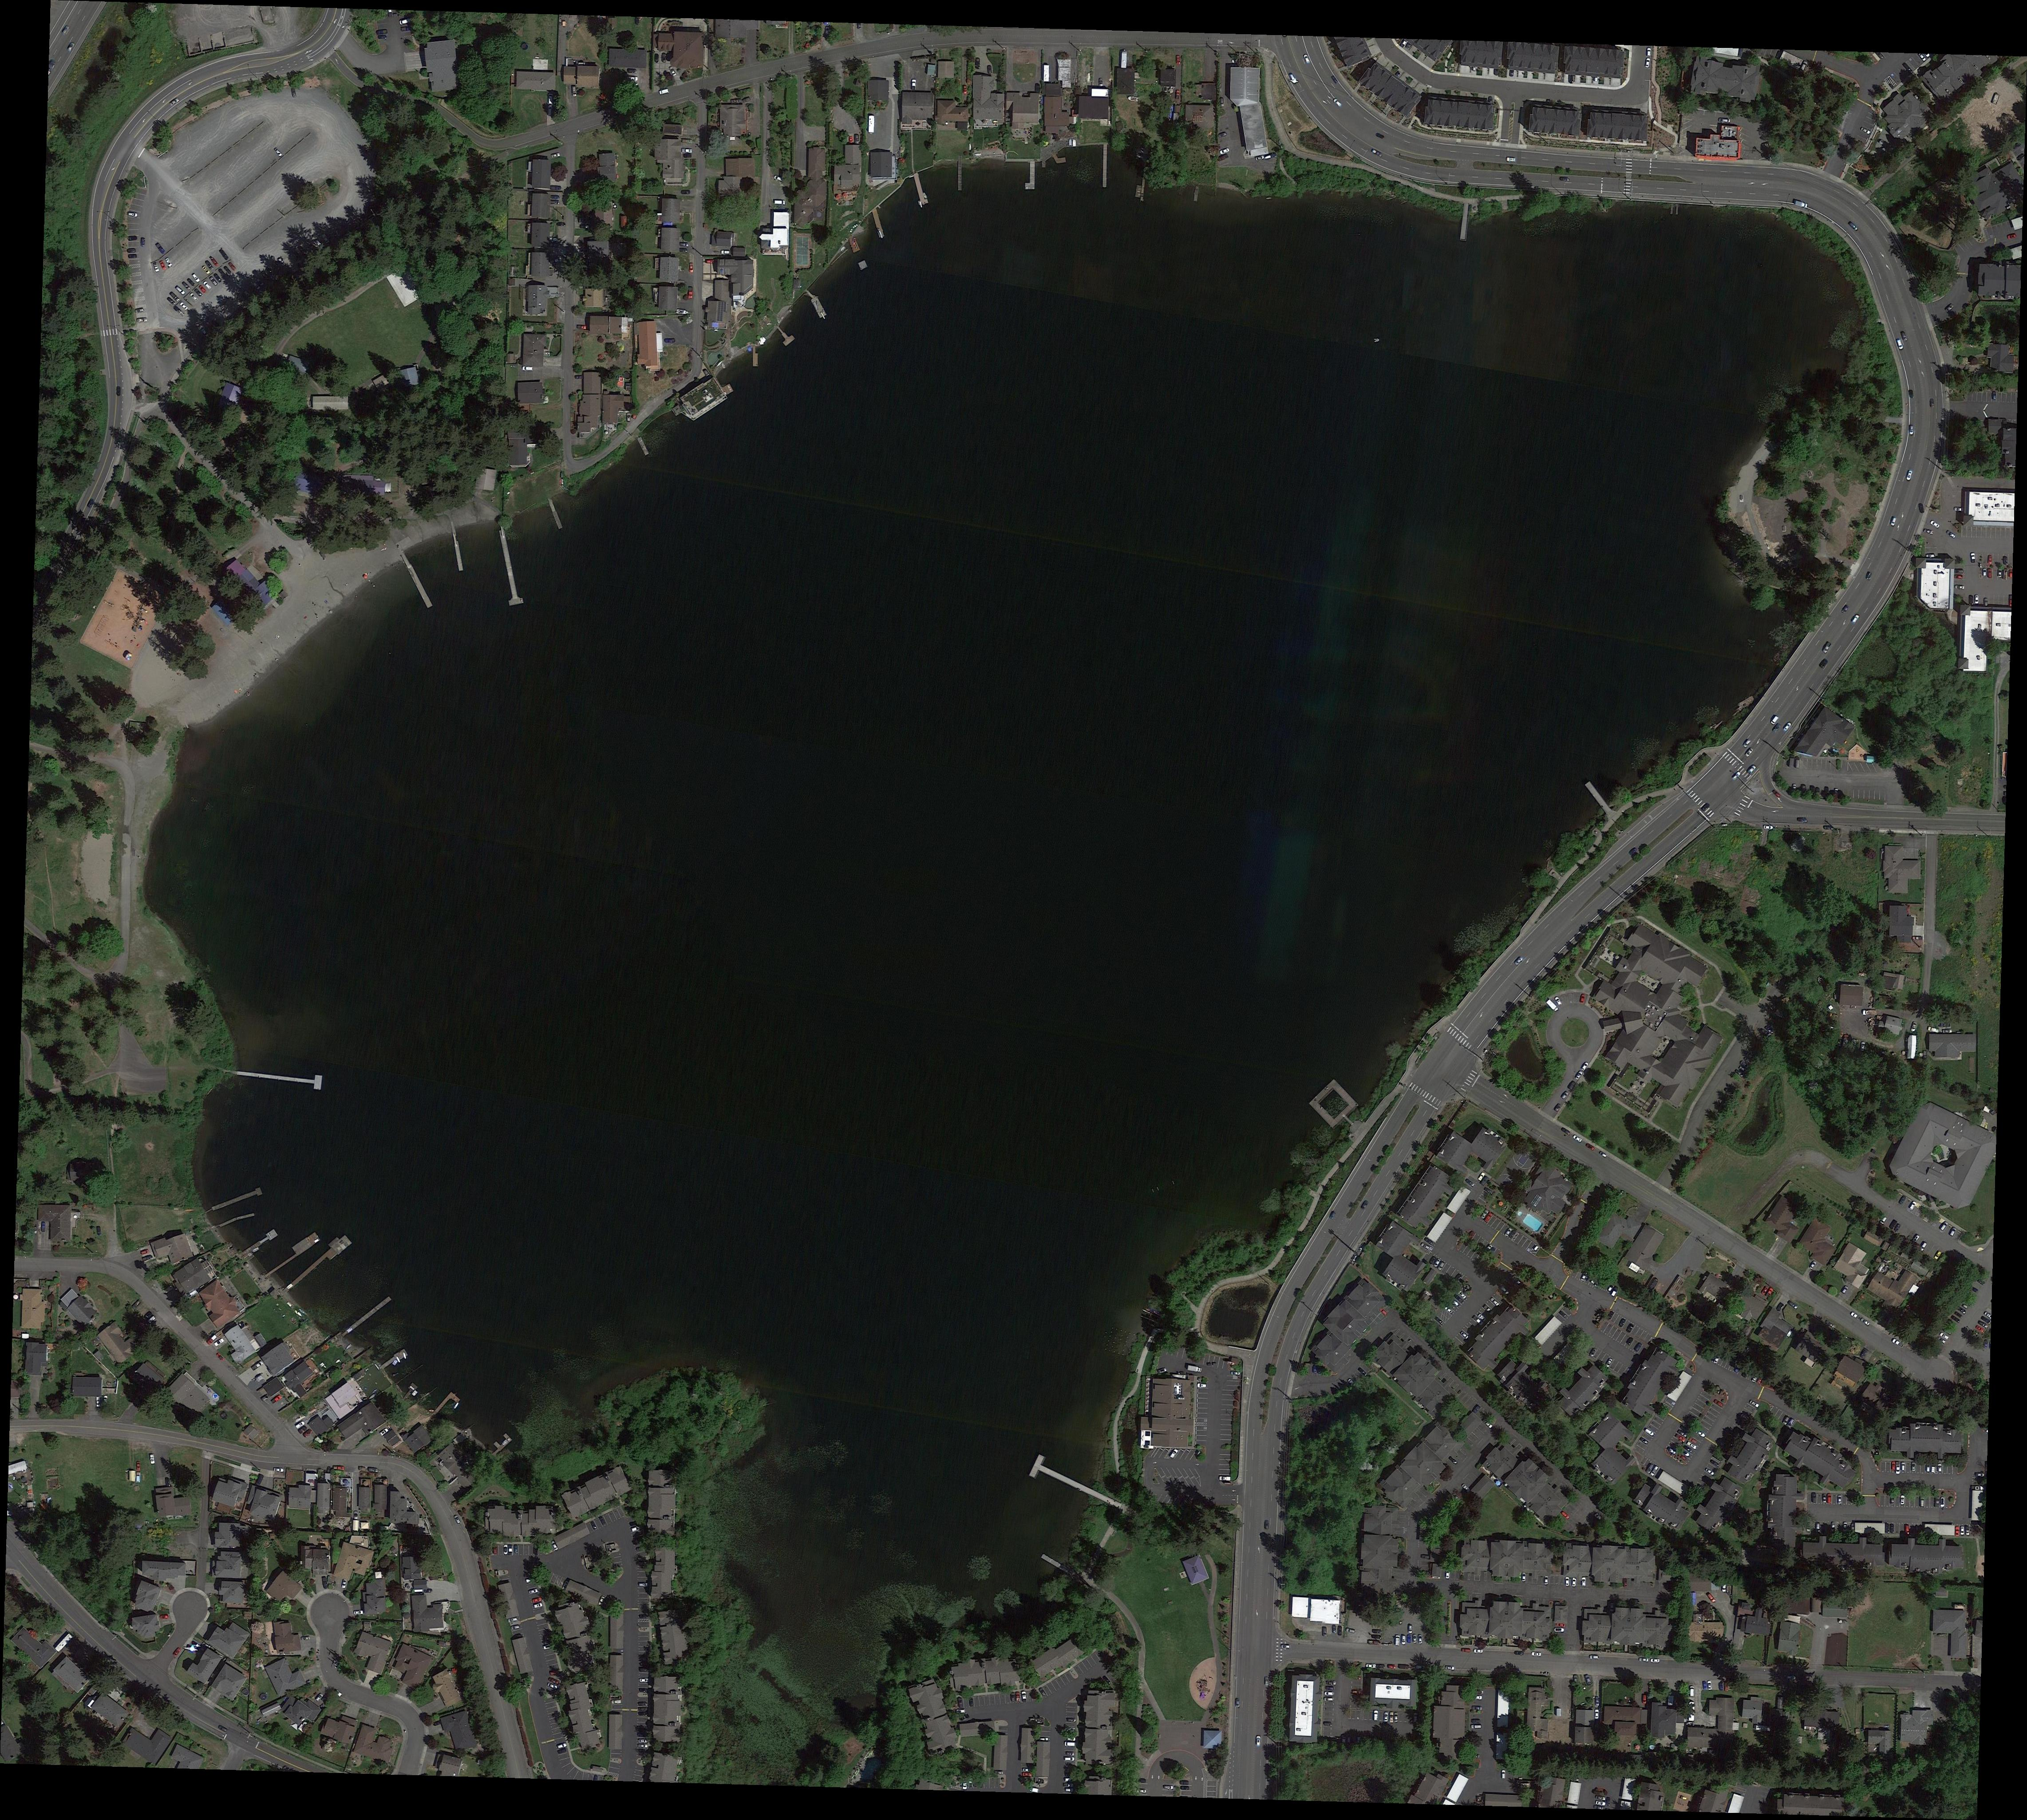harbor: (1033, 1462, 1122, 1511), (285, 1235, 350, 1293), (1309, 1079, 1365, 1137), (265, 1235, 320, 1279), (341, 1295, 392, 1337), (400, 553, 434, 610), (499, 529, 520, 606), (235, 1070, 321, 1086), (211, 1189, 263, 1212), (1584, 780, 1614, 817), (241, 1230, 278, 1260), (1040, 1553, 1073, 1576), (218, 1210, 256, 1230), (1135, 149, 1149, 202), (806, 286, 827, 318), (430, 1391, 455, 1418), (381, 1347, 409, 1370), (451, 531, 464, 573), (548, 499, 564, 531), (871, 207, 885, 239), (492, 1435, 513, 1456), (913, 172, 926, 206), (1460, 204, 1470, 241), (776, 325, 794, 344), (400, 1383, 418, 1402), (1101, 144, 1108, 188), (638, 436, 650, 457), (848, 237, 861, 255), (957, 158, 963, 190), (1029, 162, 1035, 191), (752, 346, 759, 367), (1052, 153, 1066, 163), (1193, 186, 1200, 202)
ship: (1128, 95, 1138, 104), (676, 309, 690, 314), (346, 1344, 353, 1351), (1071, 139, 1077, 148), (722, 362, 727, 369), (1068, 139, 1071, 146)
